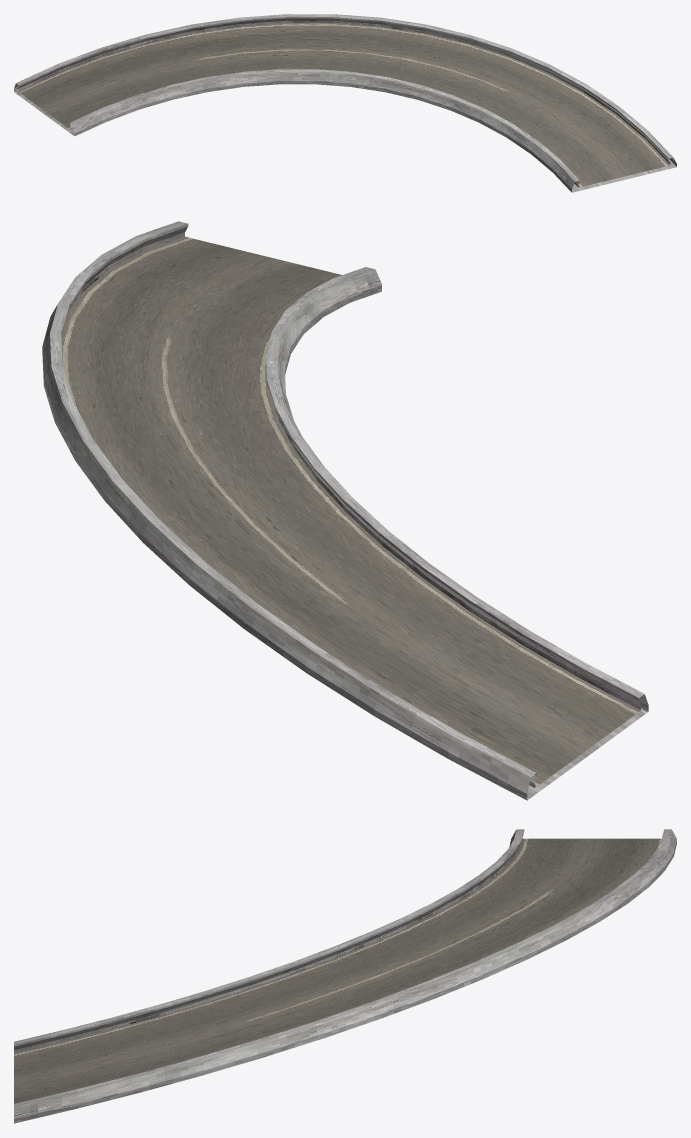
File: road-Turn-BiSlopeUp-BiSlopeDown-Even-Left-Size4.glb
3 renders of one model, top to bottom at view 1: azimuth 30°, elevation 25°; view 2: azimuth 150°, elevation 25°; view 3: azimuth 270°, elevation 25°, orthographic. The views are drawn at different scales.
Parts seen in each view (by area): view 1: road-Turn-BiSlopeUp-BiSlopeDown-Even-Left-Size4; view 2: road-Turn-BiSlopeUp-BiSlopeDown-Even-Left-Size4; view 3: road-Turn-BiSlopeUp-BiSlopeDown-Even-Left-Size4.
Boxes of the visible parts, bbox=[...] form: road-Turn-BiSlopeUp-BiSlopeDown-Even-Left-Size4: bbox=[14, 14, 676, 192]; road-Turn-BiSlopeUp-BiSlopeDown-Even-Left-Size4: bbox=[42, 221, 648, 800]; road-Turn-BiSlopeUp-BiSlopeDown-Even-Left-Size4: bbox=[14, 829, 676, 1123].
Bounding box in the file's own units: 4 × 0.5046 × 4.
2 materials, 2 textured.
